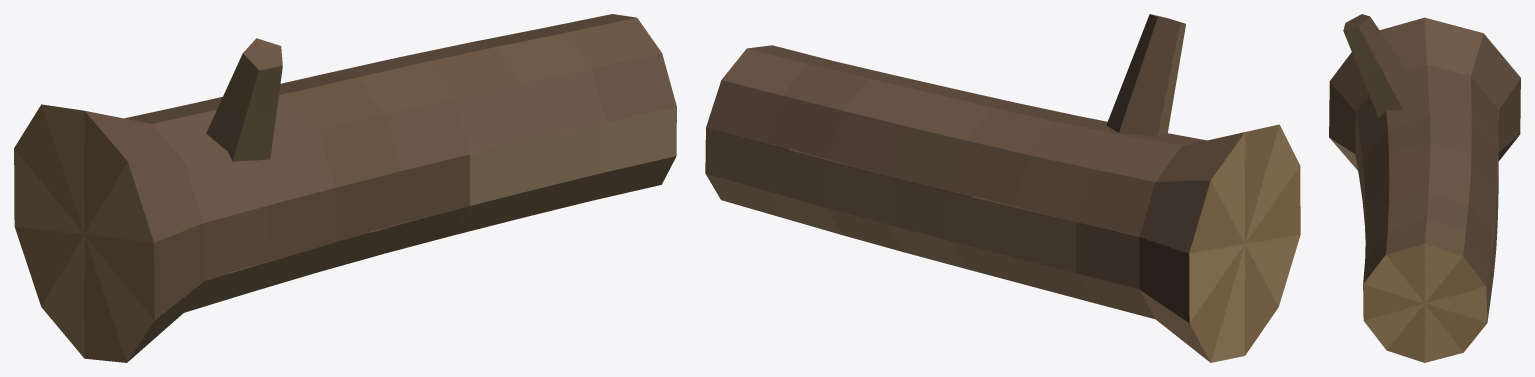
Rendered from SM_Log_Short.fbx.
3 renders of one model, left to right at view 1: azimuth 30°, elevation 25°; view 2: azimuth 150°, elevation 25°; view 3: azimuth 270°, elevation 25°, orthographic. The views are drawn at different scales.
Parts seen in each view (by area): view 1: SM_Log_Short_LOD0; view 2: SM_Log_Short_LOD0; view 3: SM_Log_Short_LOD0.
Boxes of the visible parts, bbox=[...] form: SM_Log_Short_LOD0: bbox=[14, 14, 676, 362]; SM_Log_Short_LOD0: bbox=[705, 14, 1300, 362]; SM_Log_Short_LOD0: bbox=[1329, 14, 1520, 362].
Size of what is drawn, in the model's own units: 1.32 by 0.7086 by 0.5381.
